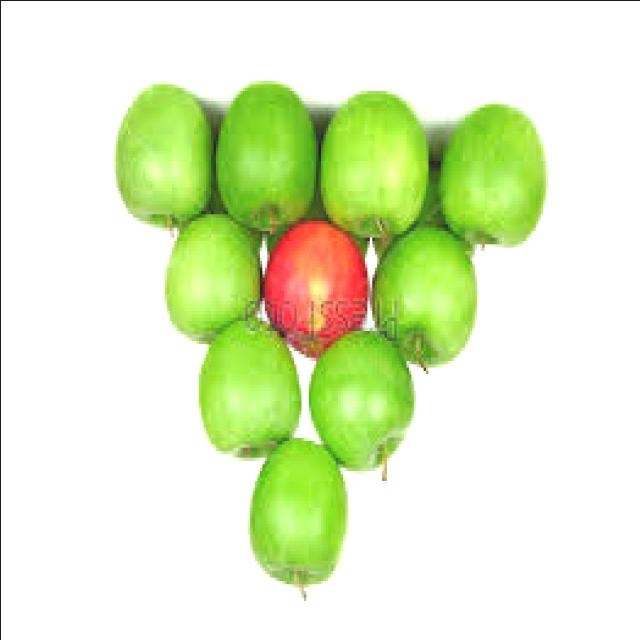agrume: (111, 80, 241, 273), (192, 311, 321, 503), (317, 92, 443, 280), (161, 206, 279, 391), (216, 81, 340, 253), (424, 108, 540, 288), (239, 430, 359, 602), (304, 332, 428, 492), (363, 236, 486, 391), (269, 216, 369, 378)
